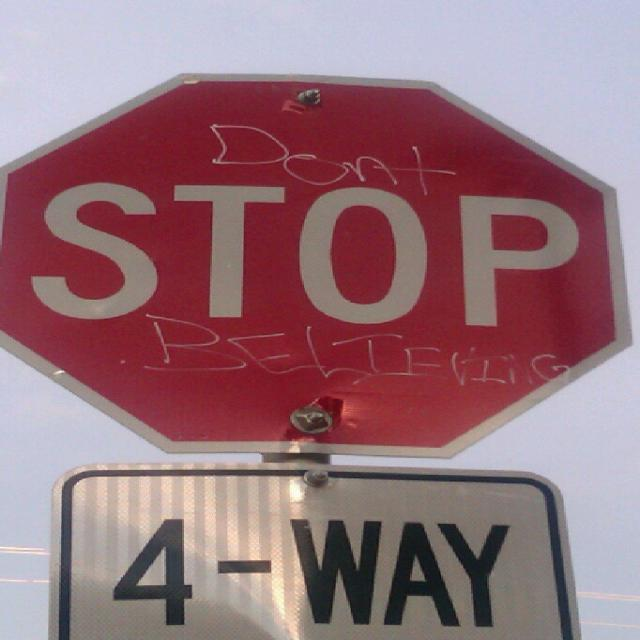stop: (0, 71, 633, 459)
